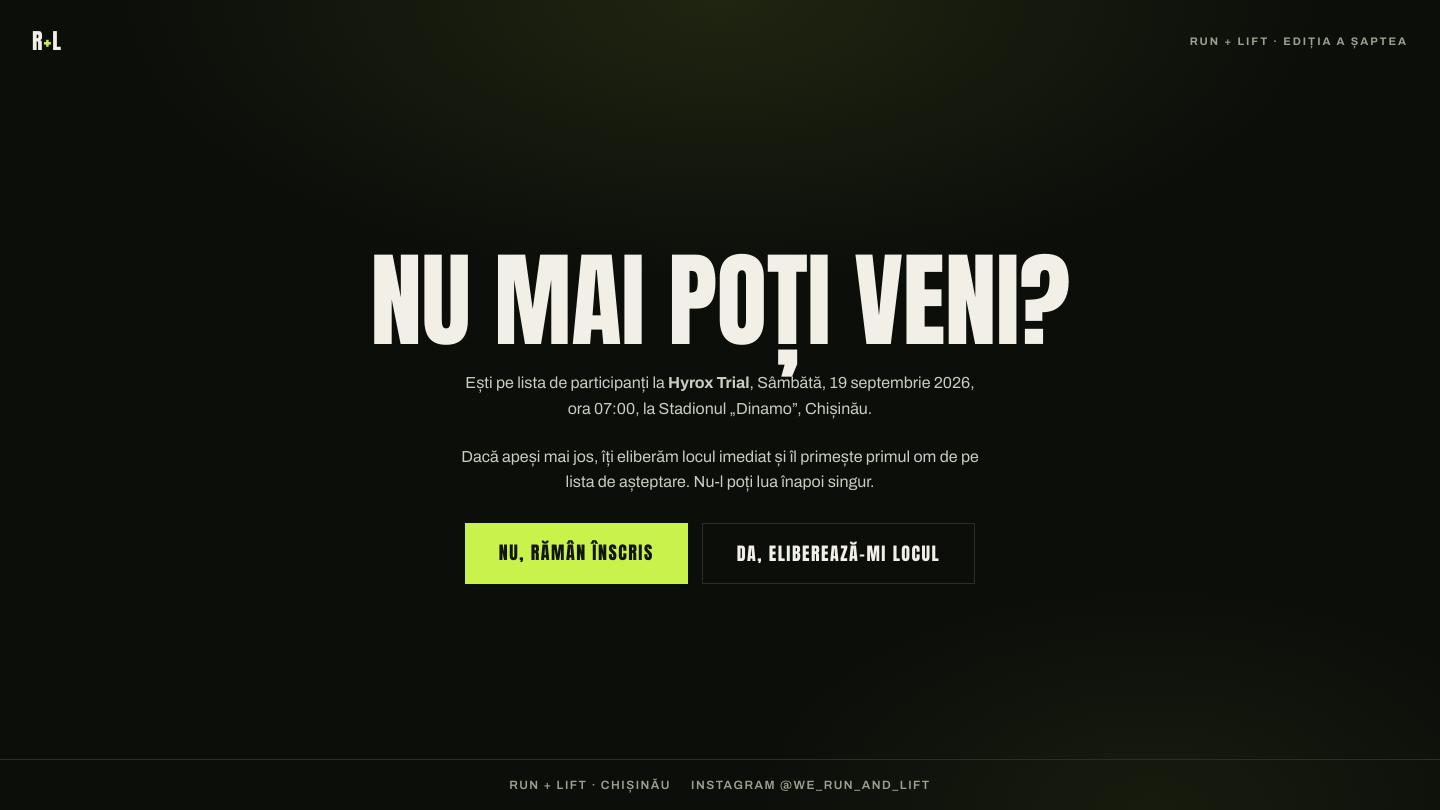
it: Renunțarea la loc › o eroare de server spune că locul a rămas neatins
This screenshot has width=1440, height=810.
Click the button "Da, eliberează-mi locul". click: click(838, 553)
box: [702,523,975,584]
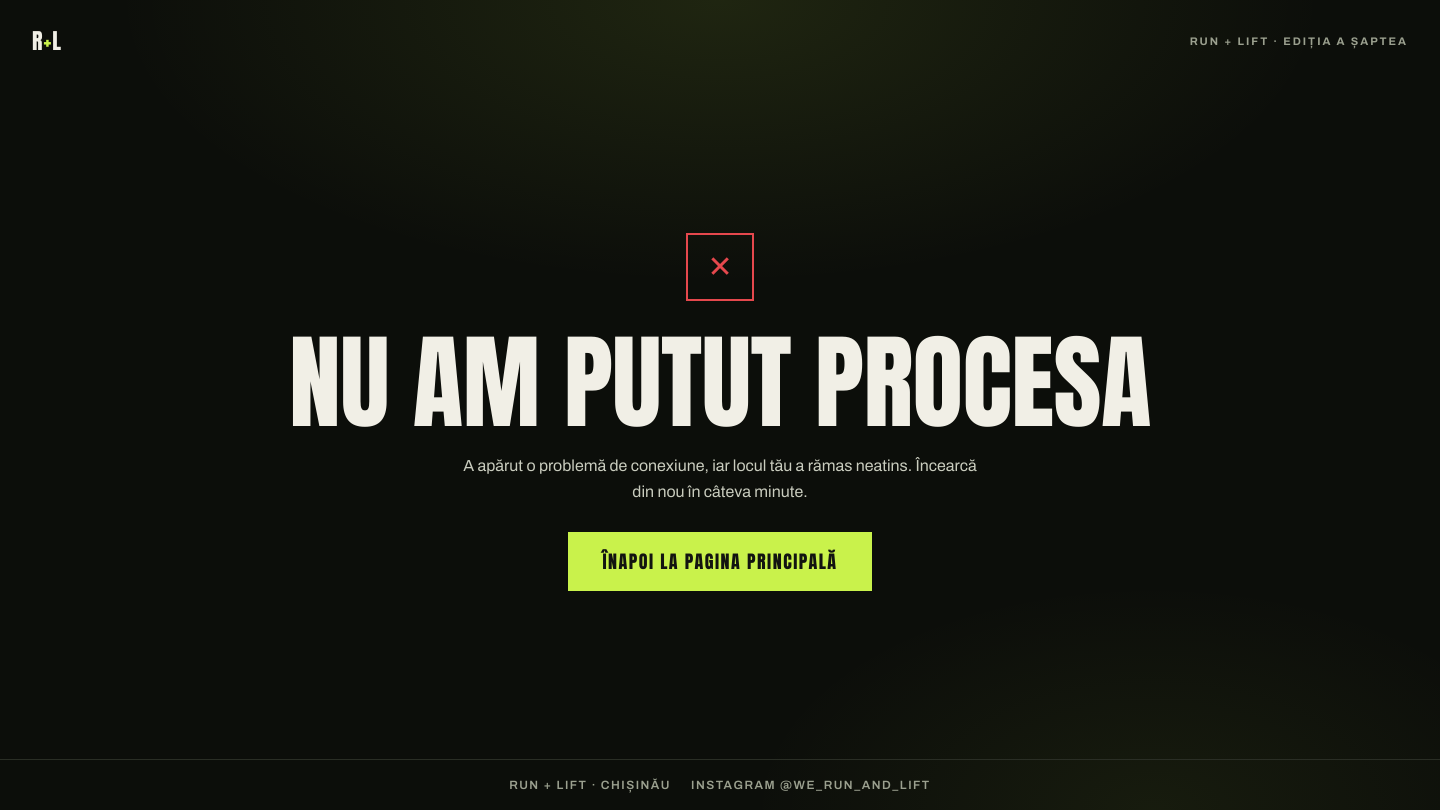
Check: the text "locul tău a rămas neatins" is shown, box [463,457,977,500]
